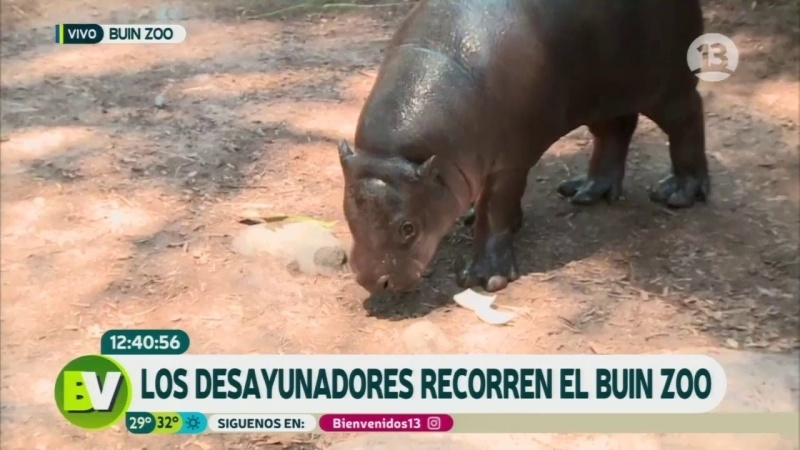hipopotamo: (295, 1, 733, 324)
